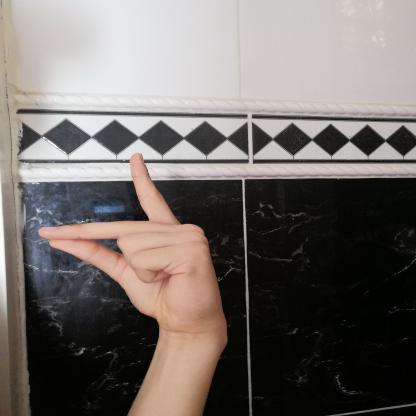TAA: (30, 146, 238, 340)
